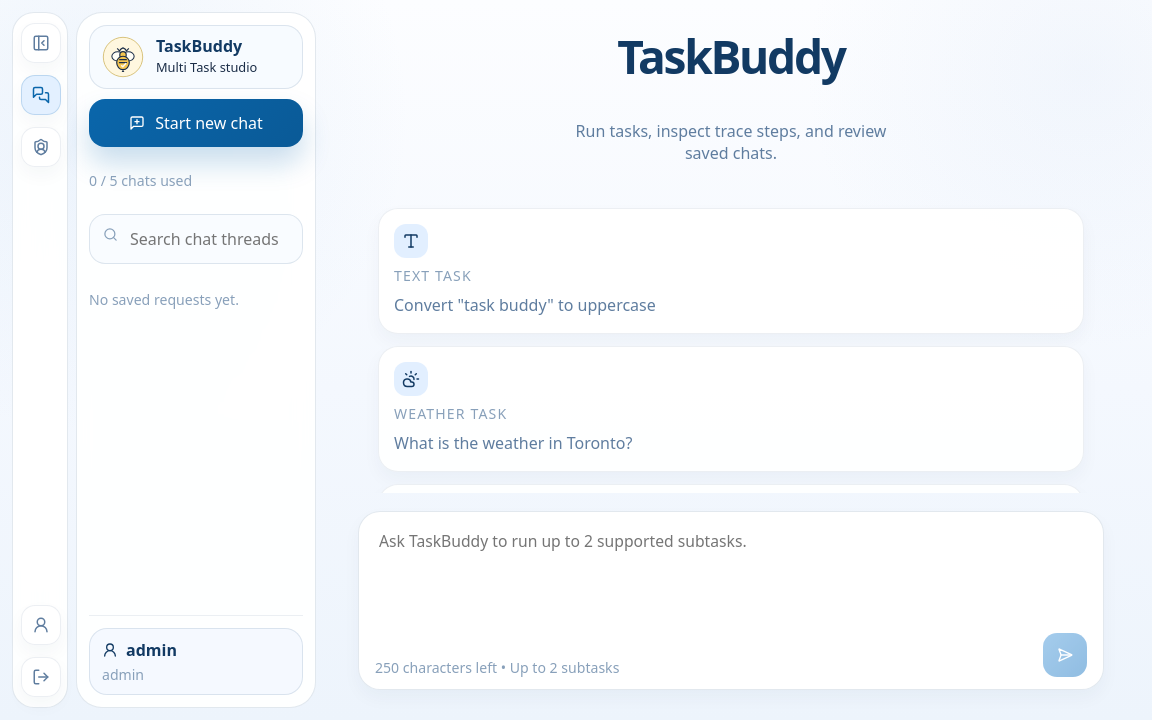
Test case: App › creates a chat from the home workspace on first submission and activates the thread route
Expected: the field with placeholder "Search chat threads" is shown, 89,214 -> 303,264
Type "Convert \"task buddy\" to uppercase" into the text box with placeholder "Ask TaskBuddy to run up to 2 supported subtasks." at x=731, y=574, box 375,526 -> 1087,622
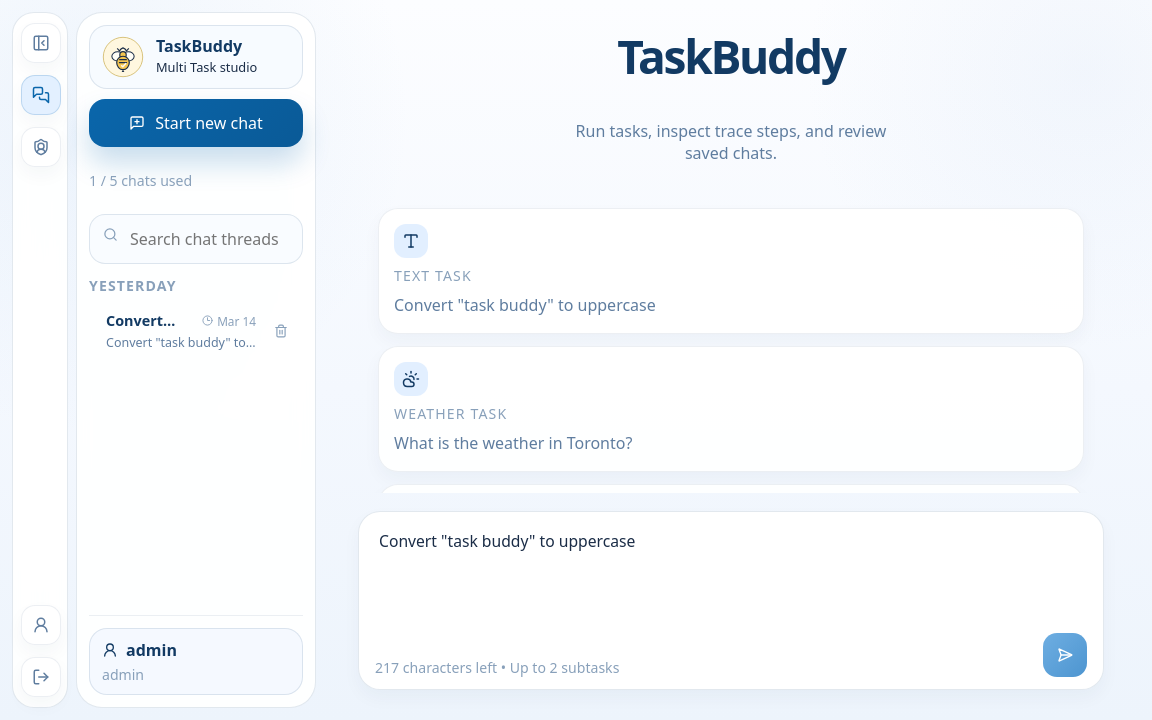
Click the button named "Run task" at x=1065, y=655, box 1043,633 -> 1087,677
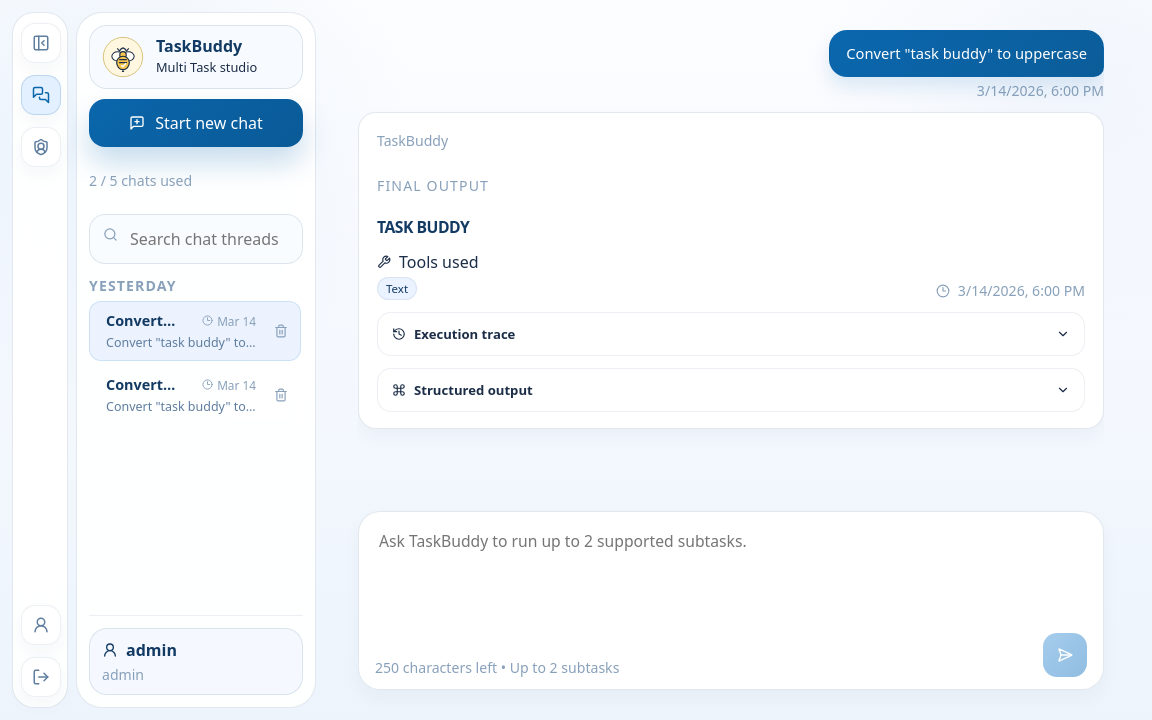
Expected: the heading "TASK BUDDY" is shown, 377,216 -> 469,238
